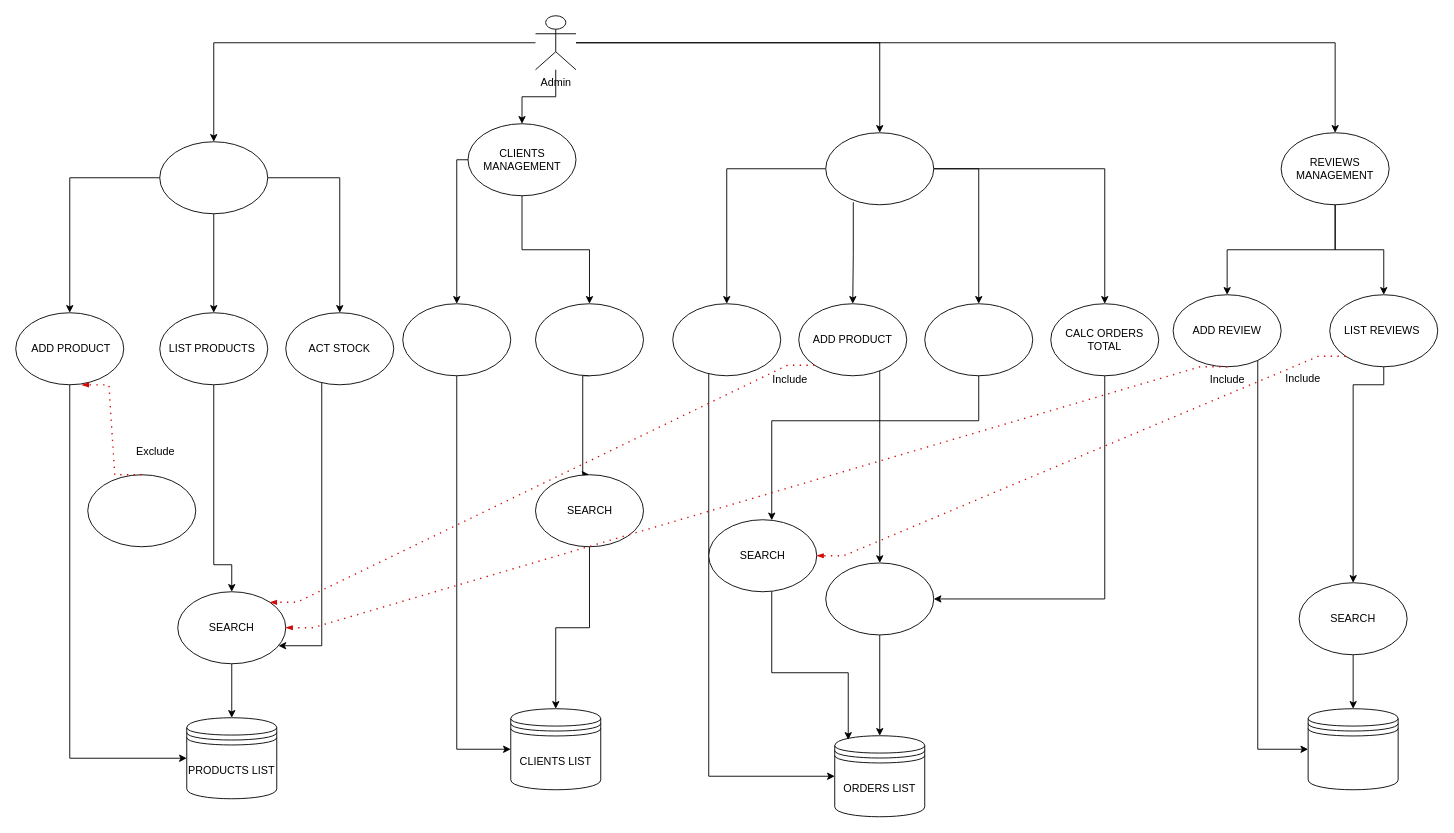
Some shapes in this 1454 by 833 pixel diagram are drawn without their labels. Each missing label, with the box of its shape:
ADD CLIENT: (402, 303, 511, 376)
CART: (825, 562, 934, 635)
CREATE ORDER: (672, 303, 781, 376)
LIST CLIENTS: (535, 303, 644, 376)
LIST ORDERS: (924, 303, 1033, 376)
ORDERS MANAGEMENT: (825, 132, 934, 205)
PHYSICAL AND DIGITAL PRODUCT: (87, 474, 196, 547)
PRODUCT MANAGEMENT: (159, 141, 268, 214)
REVIEWS LIST: (1307, 708, 1398, 790)
